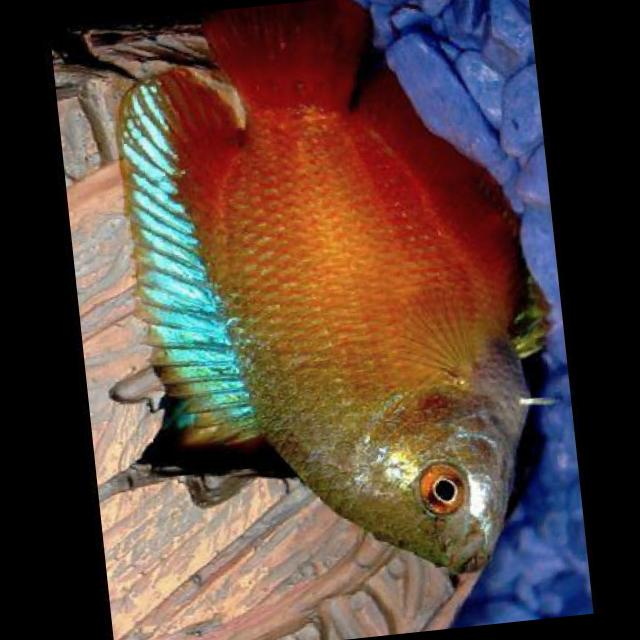Gourami: (103, 0, 555, 595)
